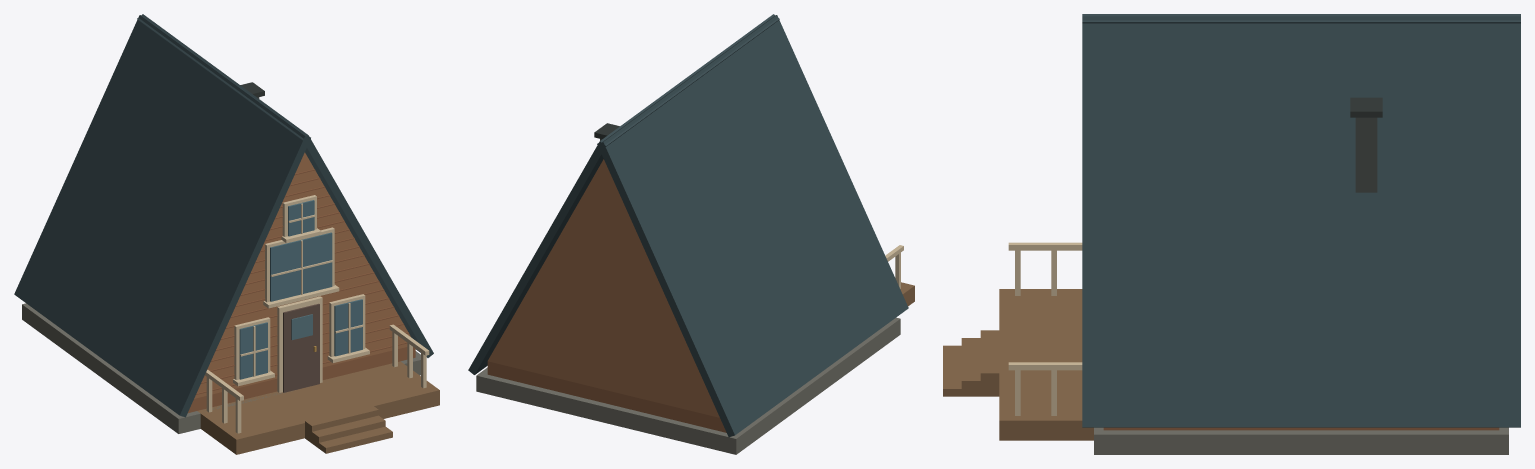
Rendered from alpine_a_frame.glb.
The picture shows the model from 3 angles, left to right: view 1: azimuth 30°, elevation 25°; view 2: azimuth 150°, elevation 25°; view 3: azimuth 270°, elevation 25°; orthographic projection. The views are drawn at different scales.
Visible parts, largest first — view 1: Sloping roof, Gable walls, Front deck, Sloping roof.001, Raised stone base, Blue glazing.002, Door, Low wall base, Blue glazing, Blue glazing.001, Door casing, Front step (+9 smaller); view 2: Sloping roof, Gable walls, Raised stone base, Sloping roof.001, Low wall base; view 3: Sloping roof.001, Front deck, Raised stone base, Sloping roof, Stove flue, Low wall base, Front step, Front step.001, Front step.002, Flue cap, Deck rail, Deck rail.001.
Boxes of the visible parts, x1,y1,x2,y2 form: Sloping roof: (14,15,310,417); Gable walls: (194,152,410,398); Front deck: (197,361,439,454); Sloping roof.001: (137,14,433,357); Raised stone base: (22,303,420,433); Blue glazing.002: (270,232,332,301); Door: (283,303,319,392); Low wall base: (188,347,415,412); Blue glazing: (239,322,267,379); Blue glazing.001: (334,299,362,356); Door casing: (277,296,322,392); Front step: (305,404,378,443); Sloping roof: (597,15,908,437); Gable walls: (488,159,719,417); Raised stone base: (476,317,900,454); Sloping roof.001: (468,14,779,374); Low wall base: (487,361,726,432); Sloping roof.001: (1082,16,1520,427); Front deck: (999,289,1093,440); Raised stone base: (1094,427,1508,454); Sloping roof: (1082,14,1520,23); Stove flue: (1355,117,1377,192); Low wall base: (1103,427,1499,430); Front step: (980,330,999,396); Front step.001: (961,338,980,396); Front step.002: (943,345,961,396); Flue cap: (1350,97,1382,117); Deck rail: (1008,242,1082,250); Deck rail.001: (1008,362,1082,370).
Bounding box in the file's own units: 7.08 × 7.22 × 10.51.
